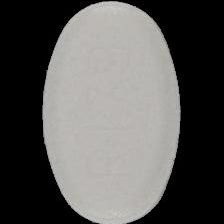0615-6564: (0, 0, 224, 224)
